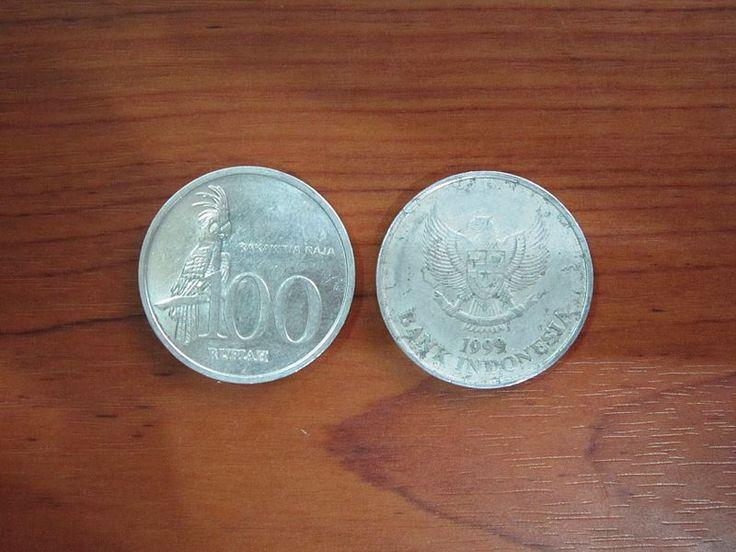coin_100_e1999: (367, 159, 601, 397), (140, 162, 358, 384)
